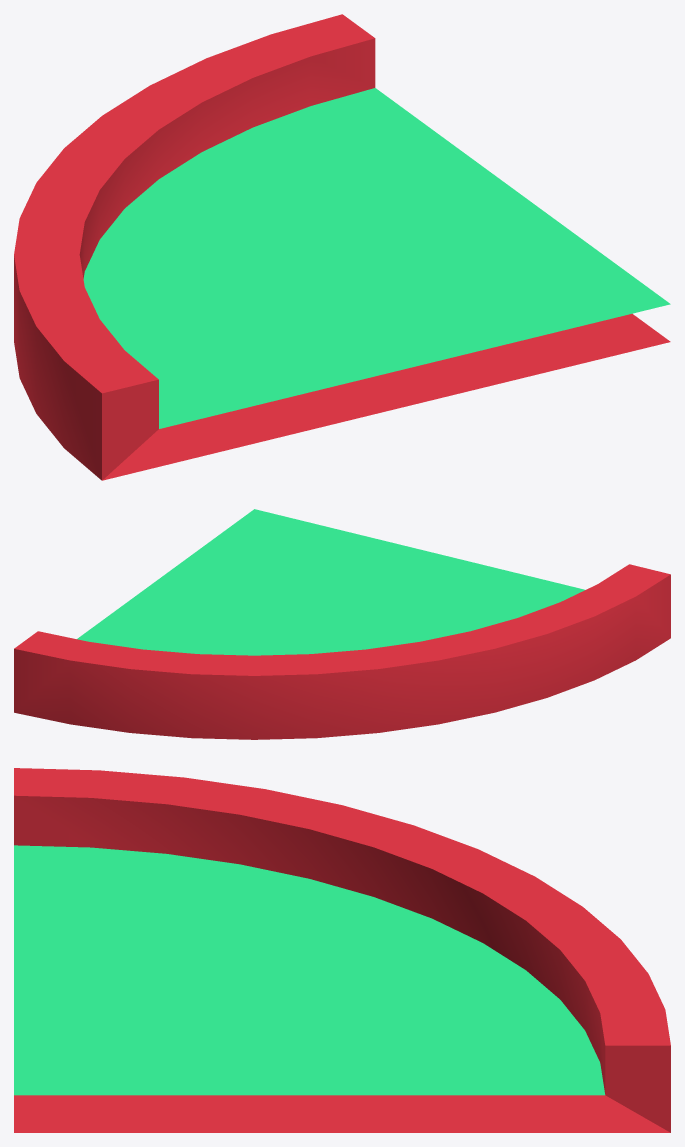
Rendered from roundCornerC.fbx.
The picture shows the model from 3 angles, top to bottom: view 1: azimuth 30°, elevation 25°; view 2: azimuth 150°, elevation 25°; view 3: azimuth 270°, elevation 25°; orthographic projection. The views are drawn at different scales.
Parts seen in each view (by area): view 1: roundCornerC; view 2: roundCornerC; view 3: roundCornerC.
Boxes of the visible parts, x1=… form: roundCornerC: x1=14, y1=14, x2=670, y2=480; roundCornerC: x1=14, y1=509, x2=670, y2=739; roundCornerC: x1=14, y1=768, x2=670, y2=1132.
Bounding box in the file's own units: 99.99 × 99.99 × 14.67.
